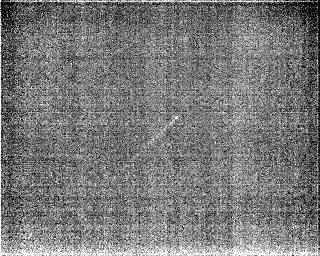AIRPLANE: (112, 115, 181, 157)
